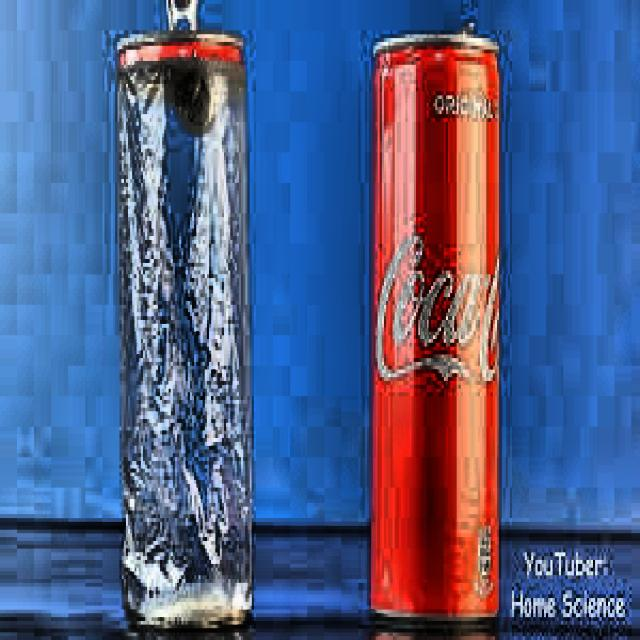can: (363, 15, 507, 631)
